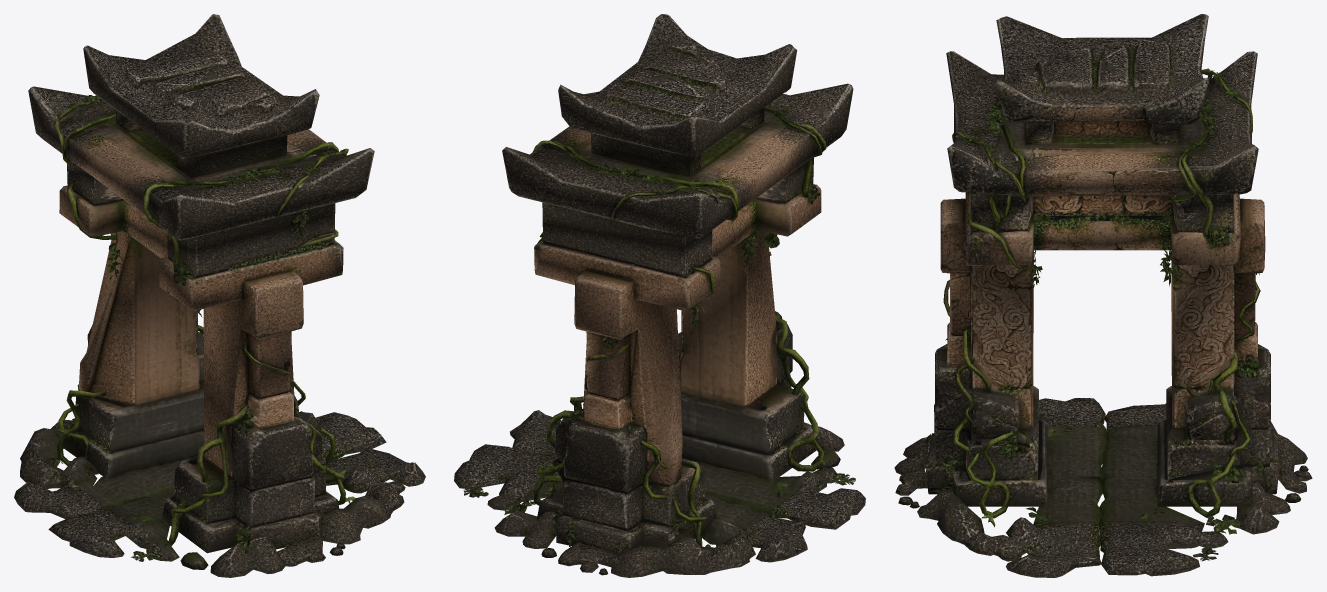
File: tripo_convert_89ee1b12-7dd6-44cd-9369-e1cb6fd90ffe.fbx
3 views of the same model, side by side, from view 1: azimuth 30°, elevation 25°; view 2: azimuth 150°, elevation 25°; view 3: azimuth 270°, elevation 25° (orthographic). The views are drawn at different scales.
Parts seen in each view (by area): view 1: tripo_node_89ee1b12; view 2: tripo_node_89ee1b12; view 3: tripo_node_89ee1b12.
Boxes of the visible parts, x1,y1,x2,y2 form: tripo_node_89ee1b12: (14,14,425,577); tripo_node_89ee1b12: (454,14,865,577); tripo_node_89ee1b12: (894,14,1312,577).
Size of the model in its own units: 0.8418 by 0.998 by 0.8652.
1 material, 1 textured.
